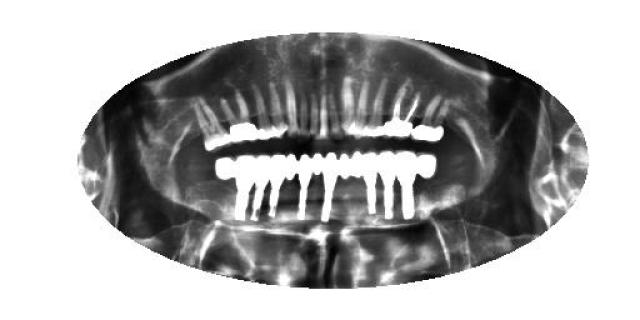Fillings: (220, 88, 259, 144), (412, 92, 452, 144), (415, 149, 439, 185), (214, 155, 235, 185), (337, 152, 352, 180), (351, 151, 364, 181), (284, 155, 298, 181), (312, 152, 322, 178)
Implant: (384, 86, 421, 140), (234, 154, 258, 225), (378, 149, 398, 220), (250, 154, 270, 220), (397, 149, 415, 219), (268, 151, 286, 220), (322, 154, 338, 222), (364, 150, 378, 216), (298, 155, 312, 220)
